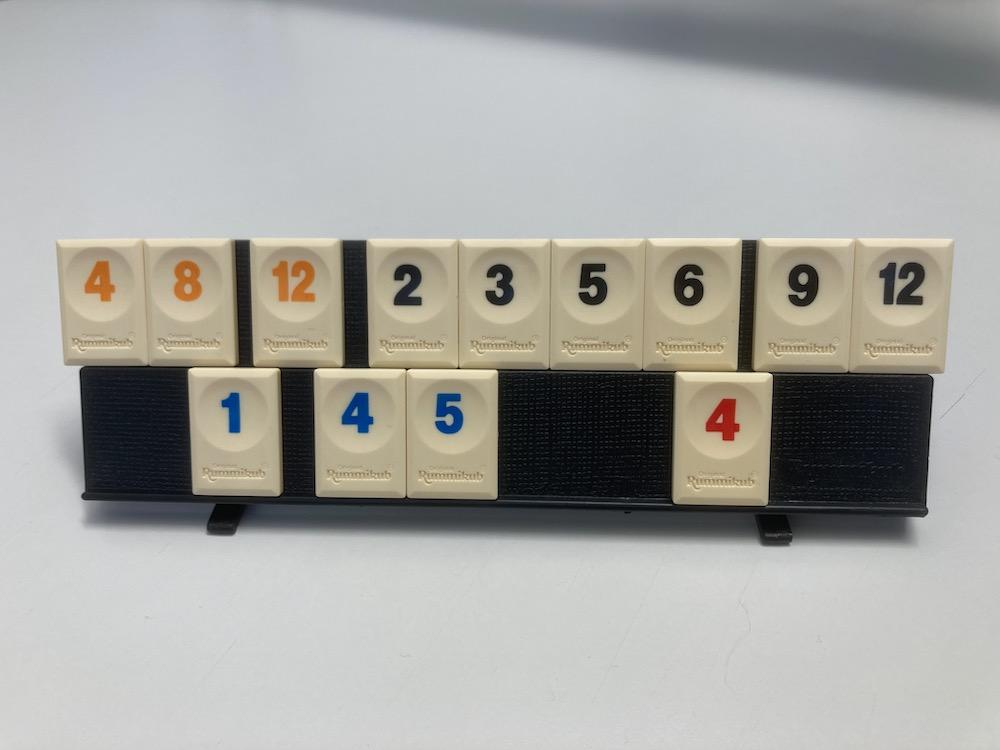black_12: (851, 240, 952, 372)
black_2: (368, 240, 457, 367)
black_3: (459, 240, 551, 369)
black_5: (551, 240, 645, 369)
black_6: (643, 238, 742, 371)
black_9: (754, 238, 854, 373)
blue_1: (188, 367, 283, 496)
blue_4: (316, 369, 406, 498)
blue_5: (406, 371, 498, 500)
orange_12: (251, 238, 342, 367)
orange_4: (57, 240, 148, 365)
orange_8: (146, 238, 238, 367)
red_4: (674, 371, 773, 506)
